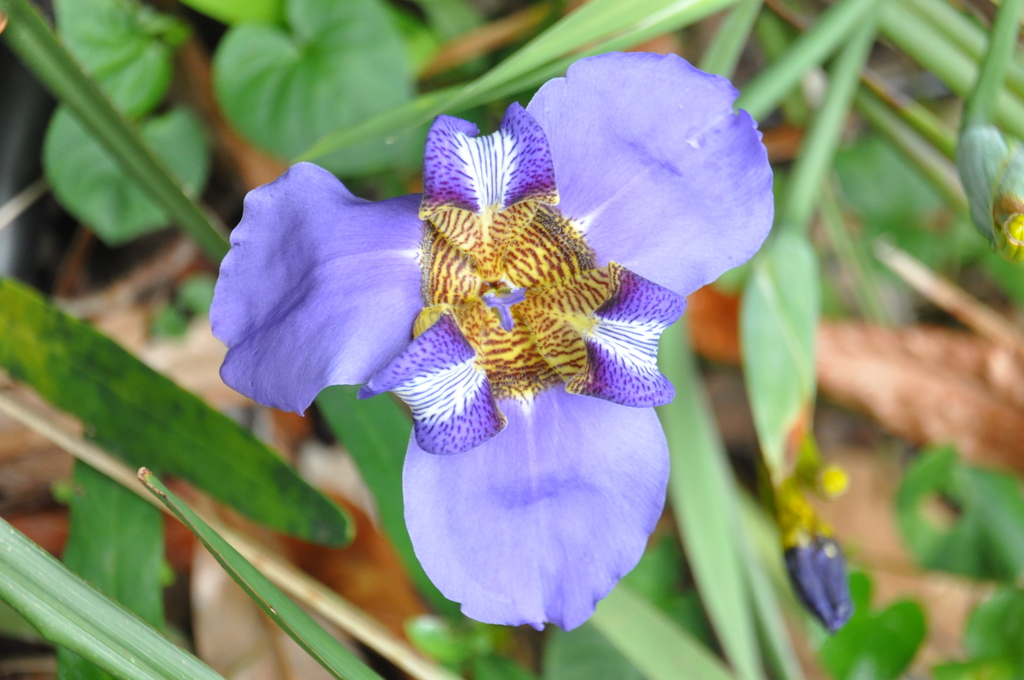person: (43, 0, 226, 250)
